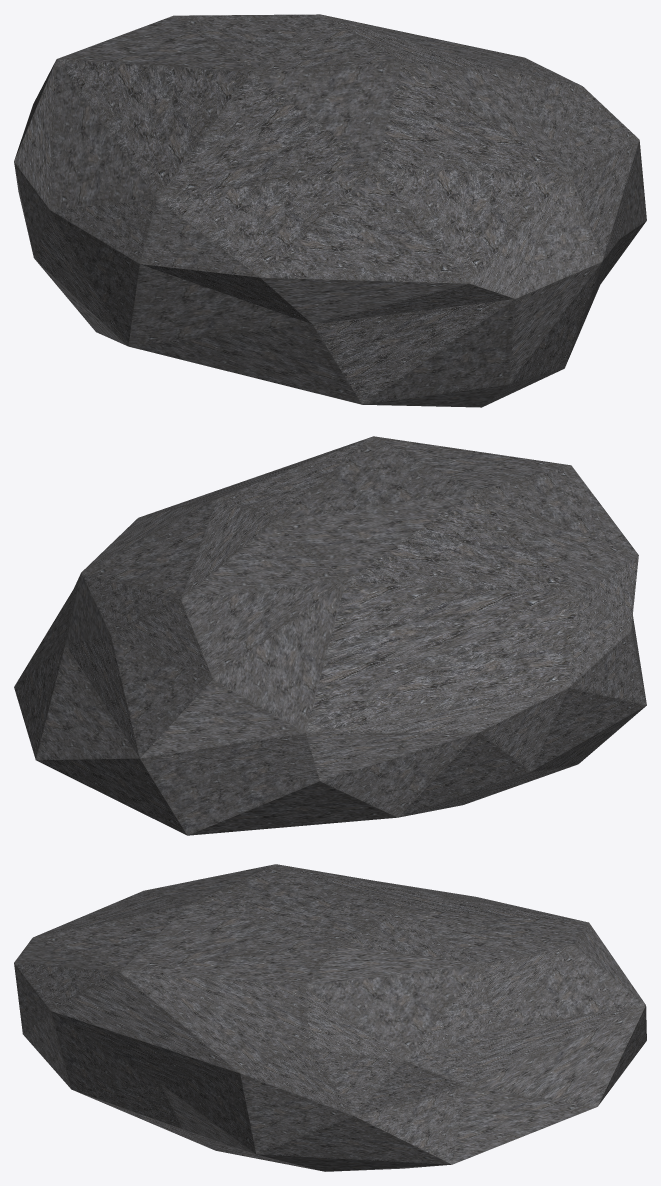
Rendered from Rock07_KW.glb.
The picture shows the model from 3 angles, top to bottom: view 1: azimuth 30°, elevation 25°; view 2: azimuth 150°, elevation 25°; view 3: azimuth 270°, elevation 25°; orthographic projection. The views are drawn at different scales.
Parts seen in each view (by area): view 1: Low_Poly_Rock; view 2: Low_Poly_Rock; view 3: Low_Poly_Rock.
Boxes of the visible parts, x1,y1,x2,y2 form: Low_Poly_Rock: [14, 14, 646, 407]; Low_Poly_Rock: [14, 436, 646, 835]; Low_Poly_Rock: [14, 864, 646, 1171].
Bounding box in the file's own units: 6.63 × 2.82 × 8.41.
1 material, 1 textured.
